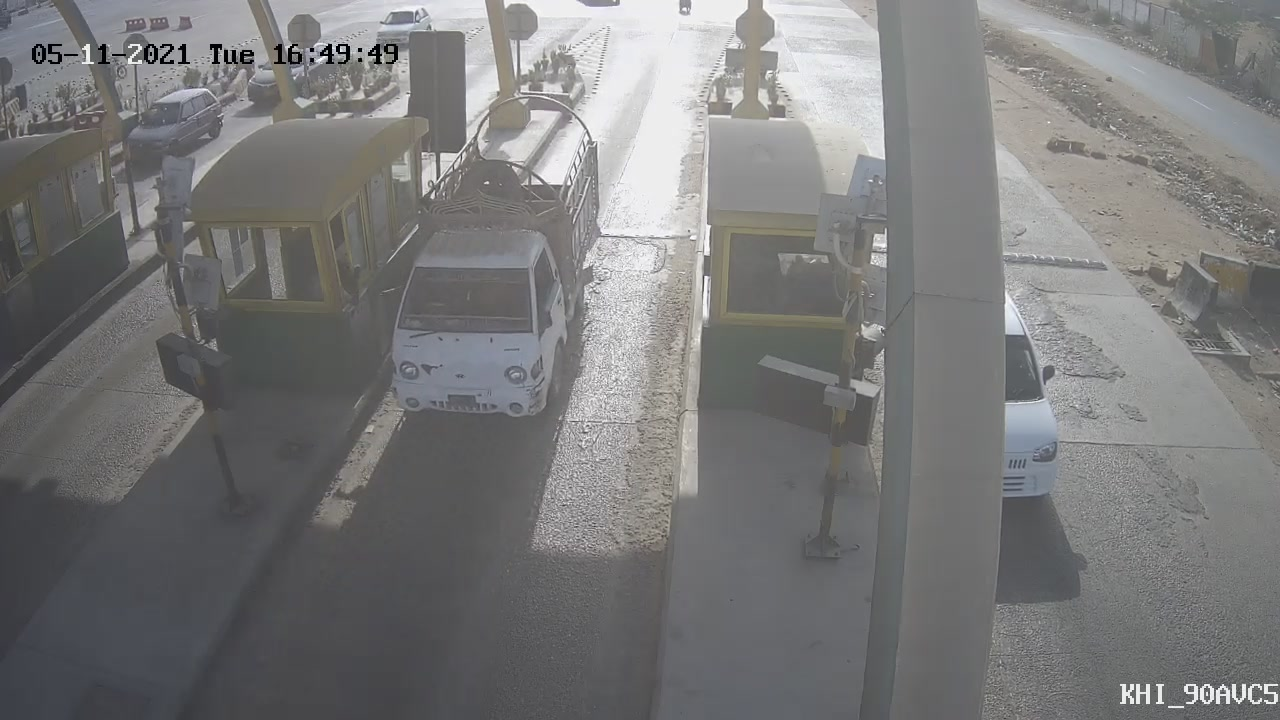F2: (365, 81, 621, 449)
